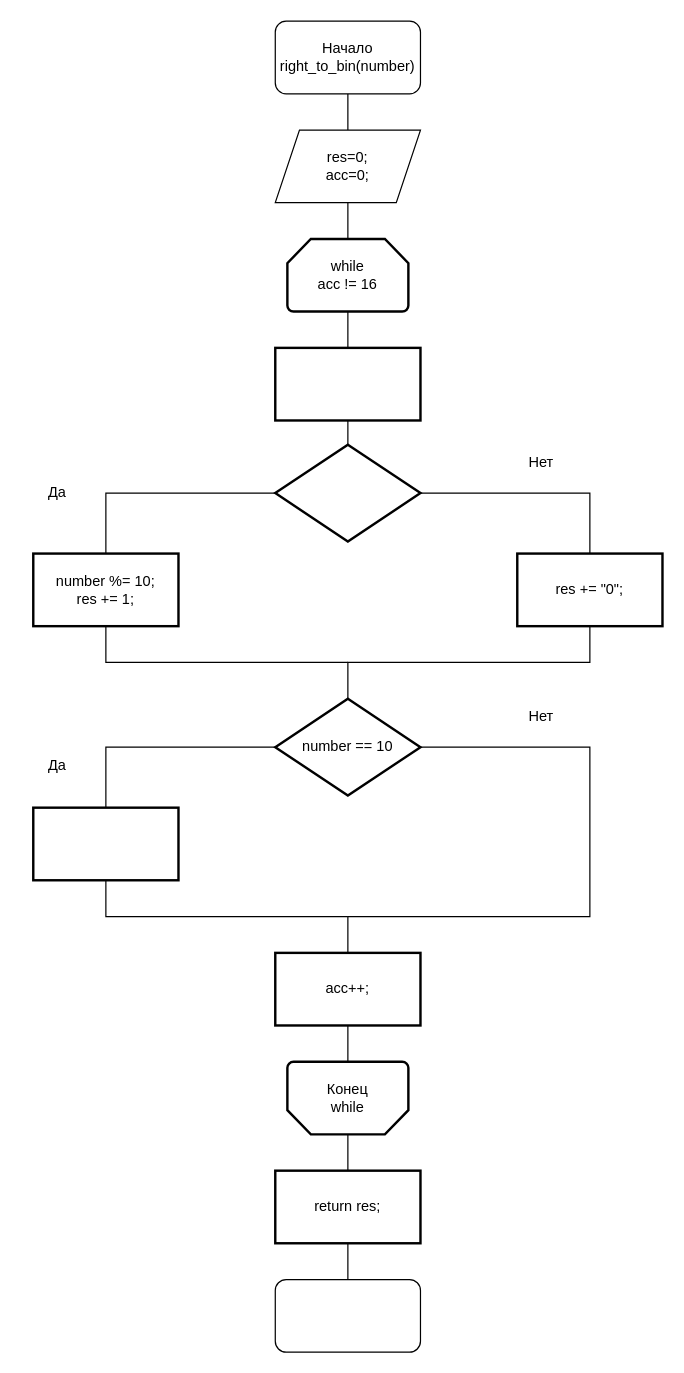
This 684x1373 diagram has some shape labels left out. Here are the shapes that lost their labels. From the top down, the centre of each, then its label:
(347,383): number *= 2;
(347,492): number < 10
(105,843): return res + "1";
(347,1315): Конец right_to_bin(number)
